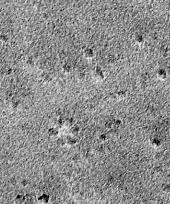rosette_object: (47, 116, 81, 147)
